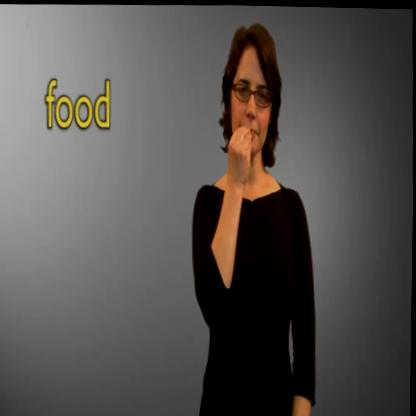Food: (194, 5, 280, 234)
